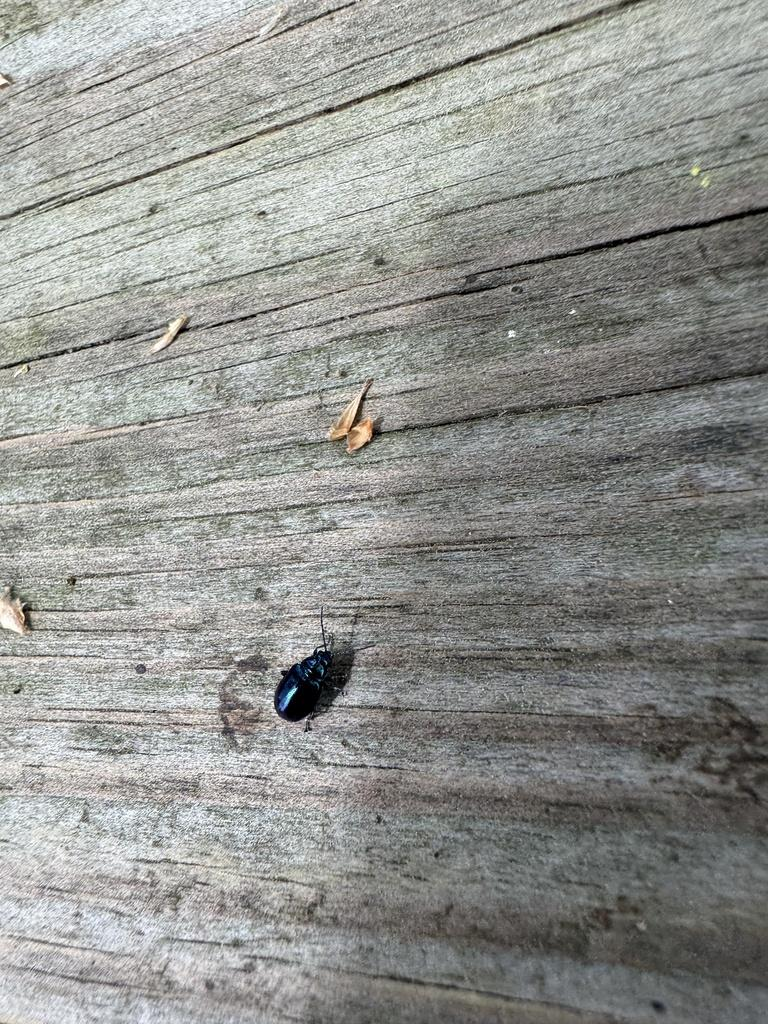flea_beetle: (234, 590, 359, 761)
